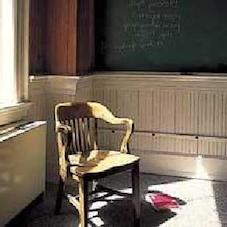chair: (47, 93, 160, 223), (47, 93, 155, 214)
